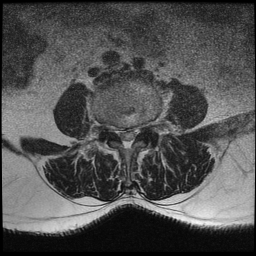CCS_normal: (124, 119, 131, 156)
LFS_stenosis: (139, 115, 147, 139)
LLS_normal: (131, 118, 139, 147)
RFS_normal: (108, 116, 116, 140)
RLS_normal: (116, 119, 124, 148)
